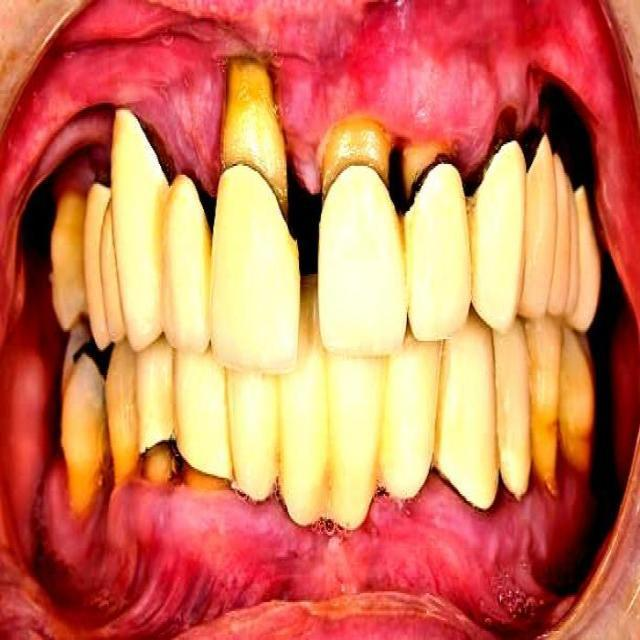CALCULUS: (229, 72, 284, 189), (325, 139, 402, 186), (146, 432, 219, 476), (536, 397, 566, 451), (571, 394, 593, 464)
